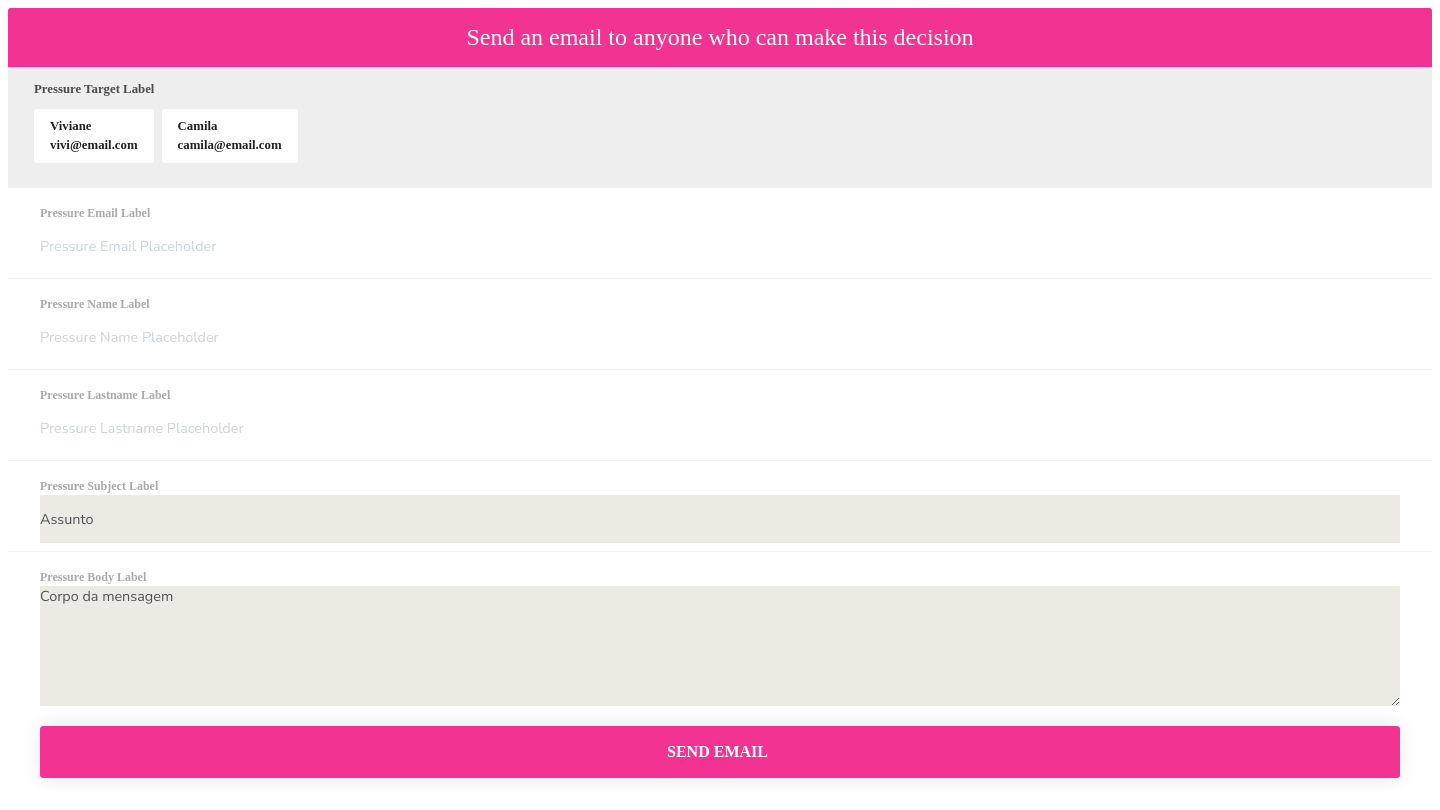
Test: Plugin unsuccessful behavior paths › should display error if email input is present in targets
In the field named "email": (720, 246) [40, 222, 1400, 270], type "vivi@email.com"
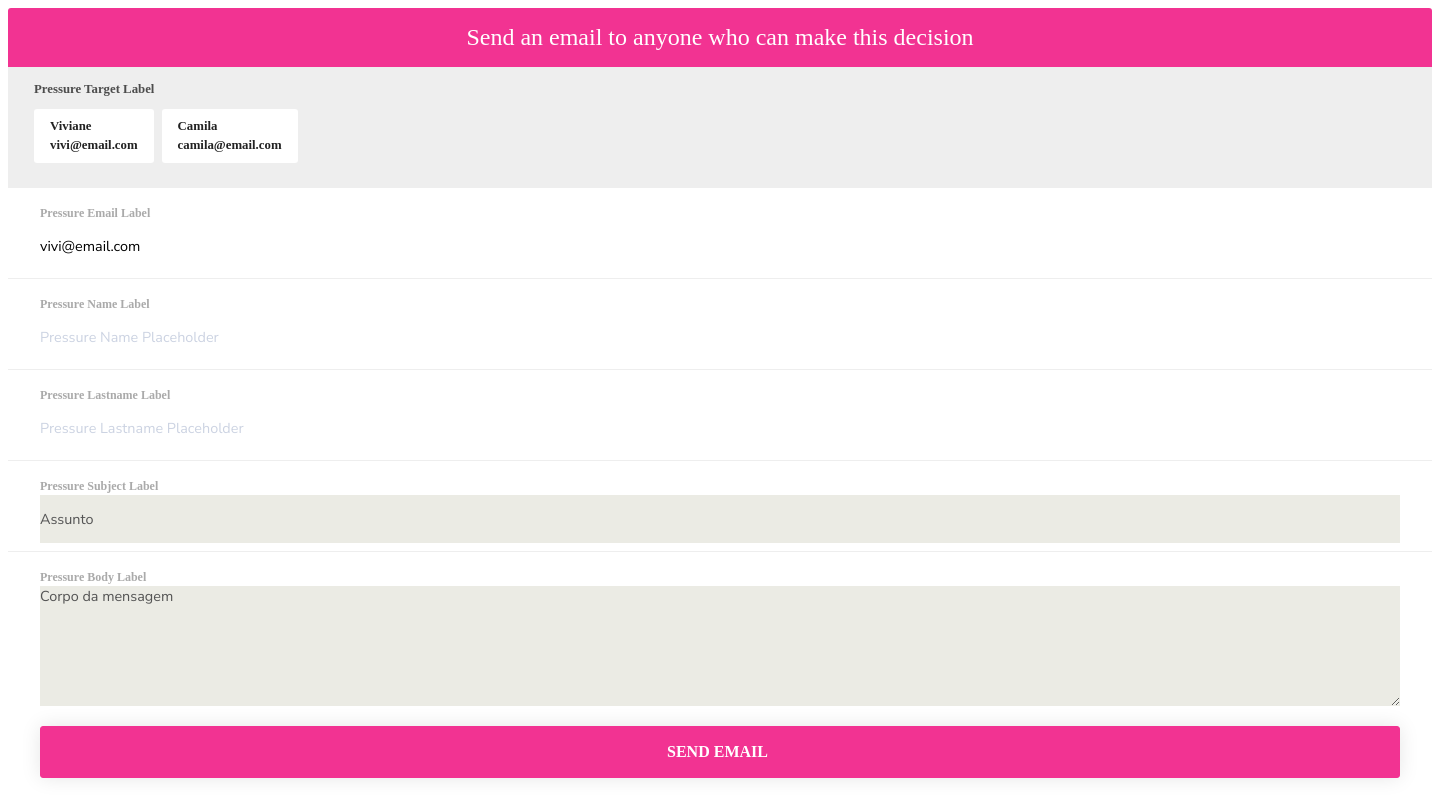
Click the button "Send Email": click(720, 752) [40, 726, 1400, 778]
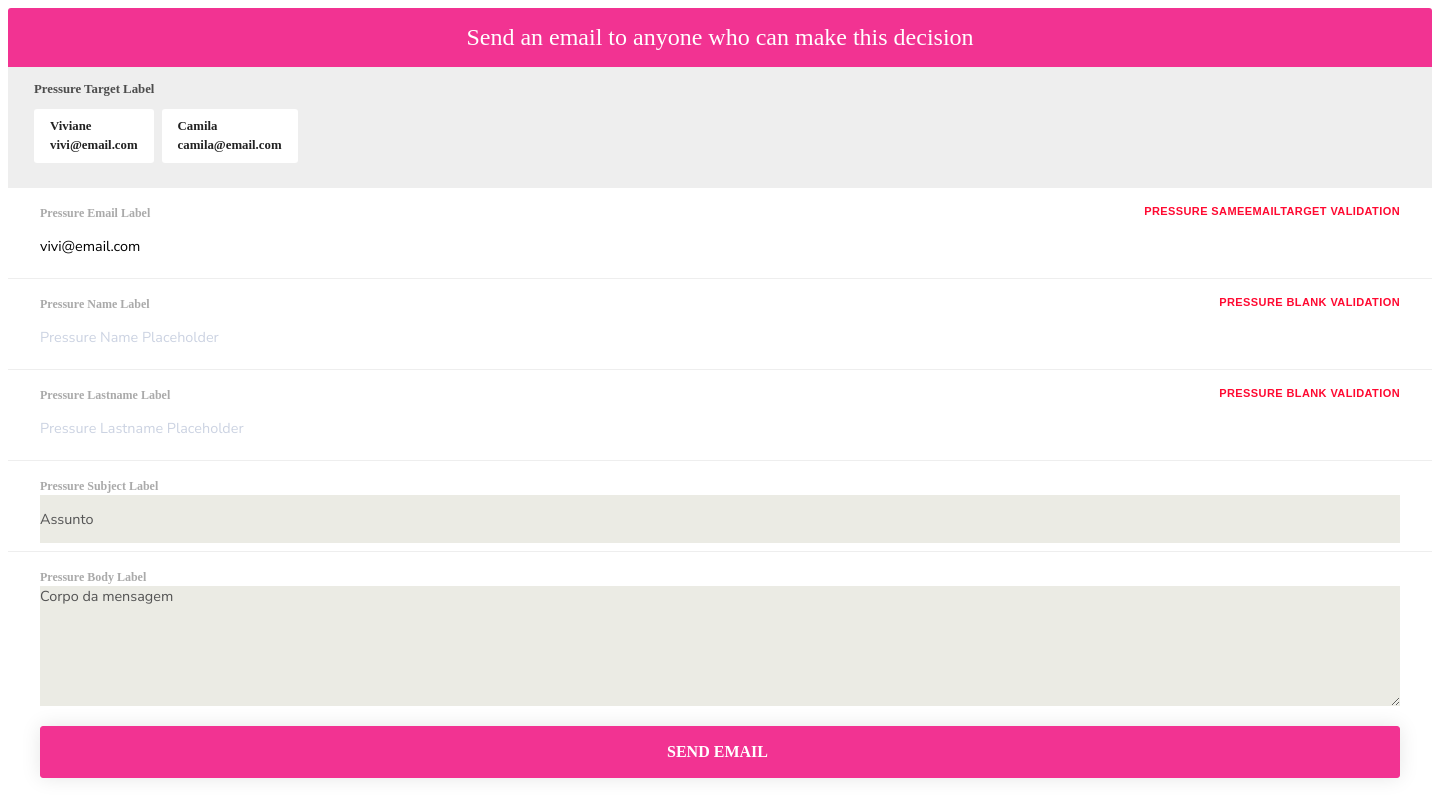
Now the text "Pressure SameEmailTarget Validation" is shown, box [1144, 204, 1400, 222]
